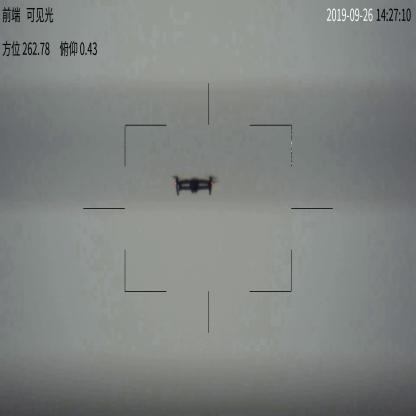uav: (167, 173, 221, 198)
